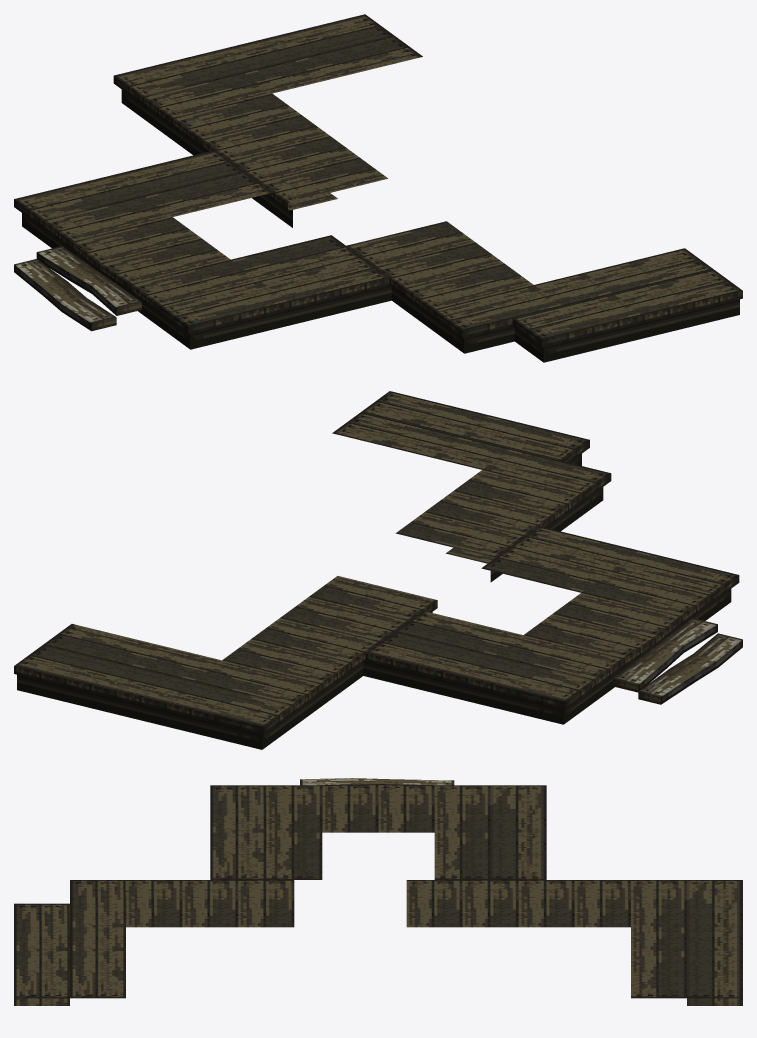
Rendered from EnvBdgMD_Wilderness_A_Outdoor_A_Base_Broken.FBX.
3 renders of one model, top to bottom at view 1: azimuth 30°, elevation 25°; view 2: azimuth 150°, elevation 25°; view 3: azimuth 270°, elevation 25°, orthographic. The views are drawn at different scales.
Parts seen in each view (by area): view 1: EnvBdgMD_Wilderness_A_Outdoor_A_Base_Broken; view 2: EnvBdgMD_Wilderness_A_Outdoor_A_Base_Broken; view 3: EnvBdgMD_Wilderness_A_Outdoor_A_Base_Broken.
Part boxes in pixels (<box>): EnvBdgMD_Wilderness_A_Outdoor_A_Base_Broken: <box>14,14,742,362</box>; EnvBdgMD_Wilderness_A_Outdoor_A_Base_Broken: <box>14,391,742,749</box>; EnvBdgMD_Wilderness_A_Outdoor_A_Base_Broken: <box>14,778,742,1005</box>.
Bounding box in the file's own units: 1005 × 50 × 1300.
Materials: 1 (1 with a texture image).
